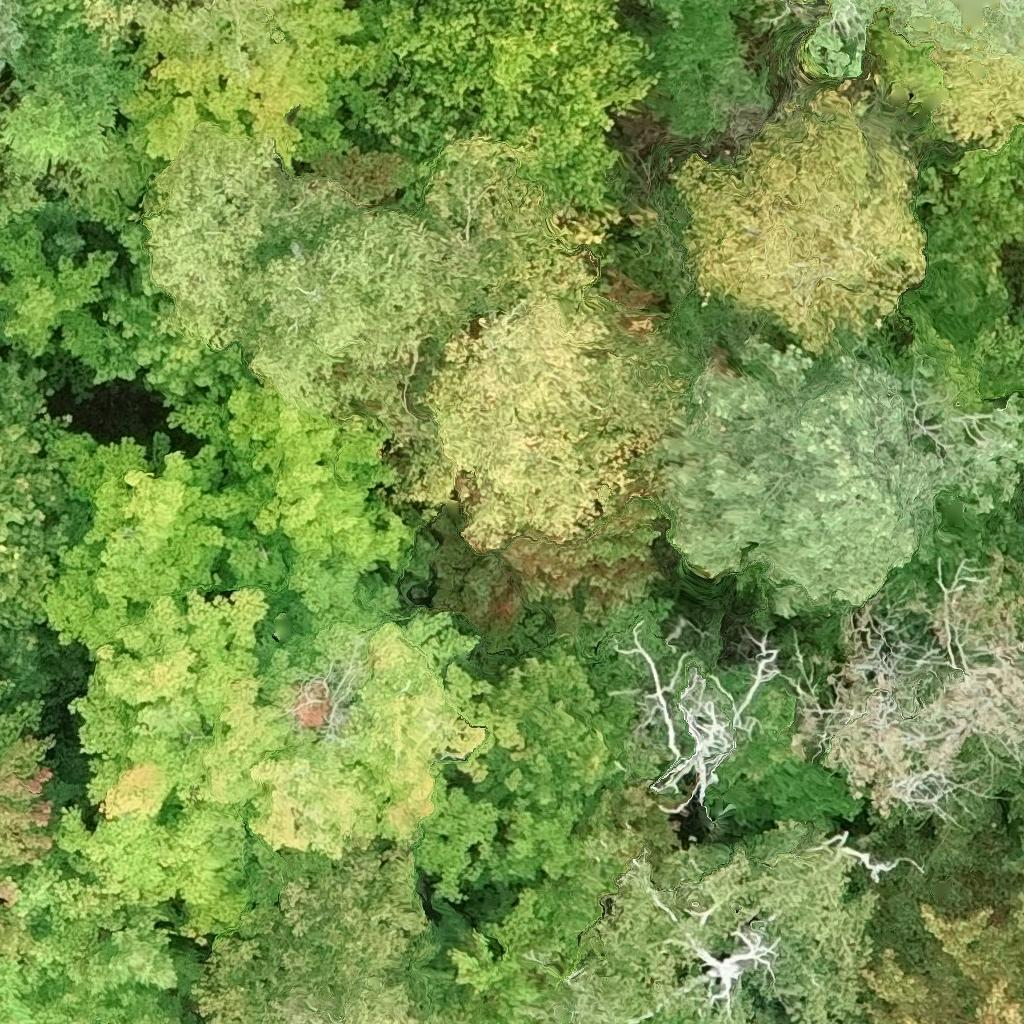crown: (58, 585, 488, 942), (128, 305, 414, 669), (521, 820, 878, 1023), (41, 427, 292, 655), (191, 846, 483, 1023), (0, 808, 206, 1023), (0, 222, 139, 384), (859, 897, 1023, 1023), (0, 363, 73, 616), (0, 682, 56, 871), (1003, 787, 1023, 949), (0, 0, 24, 73), (0, 870, 17, 898)
